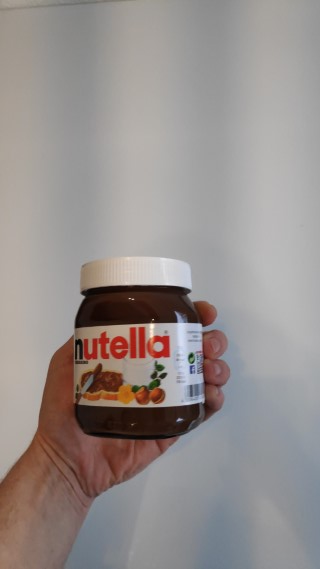nutella: (71, 253, 207, 441)
